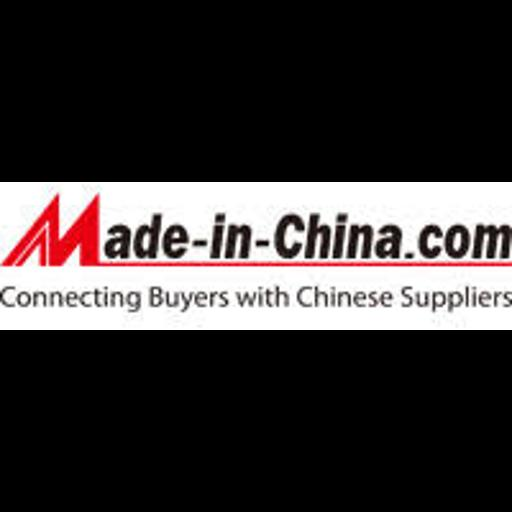Made-In-China: (0, 182, 512, 330)
